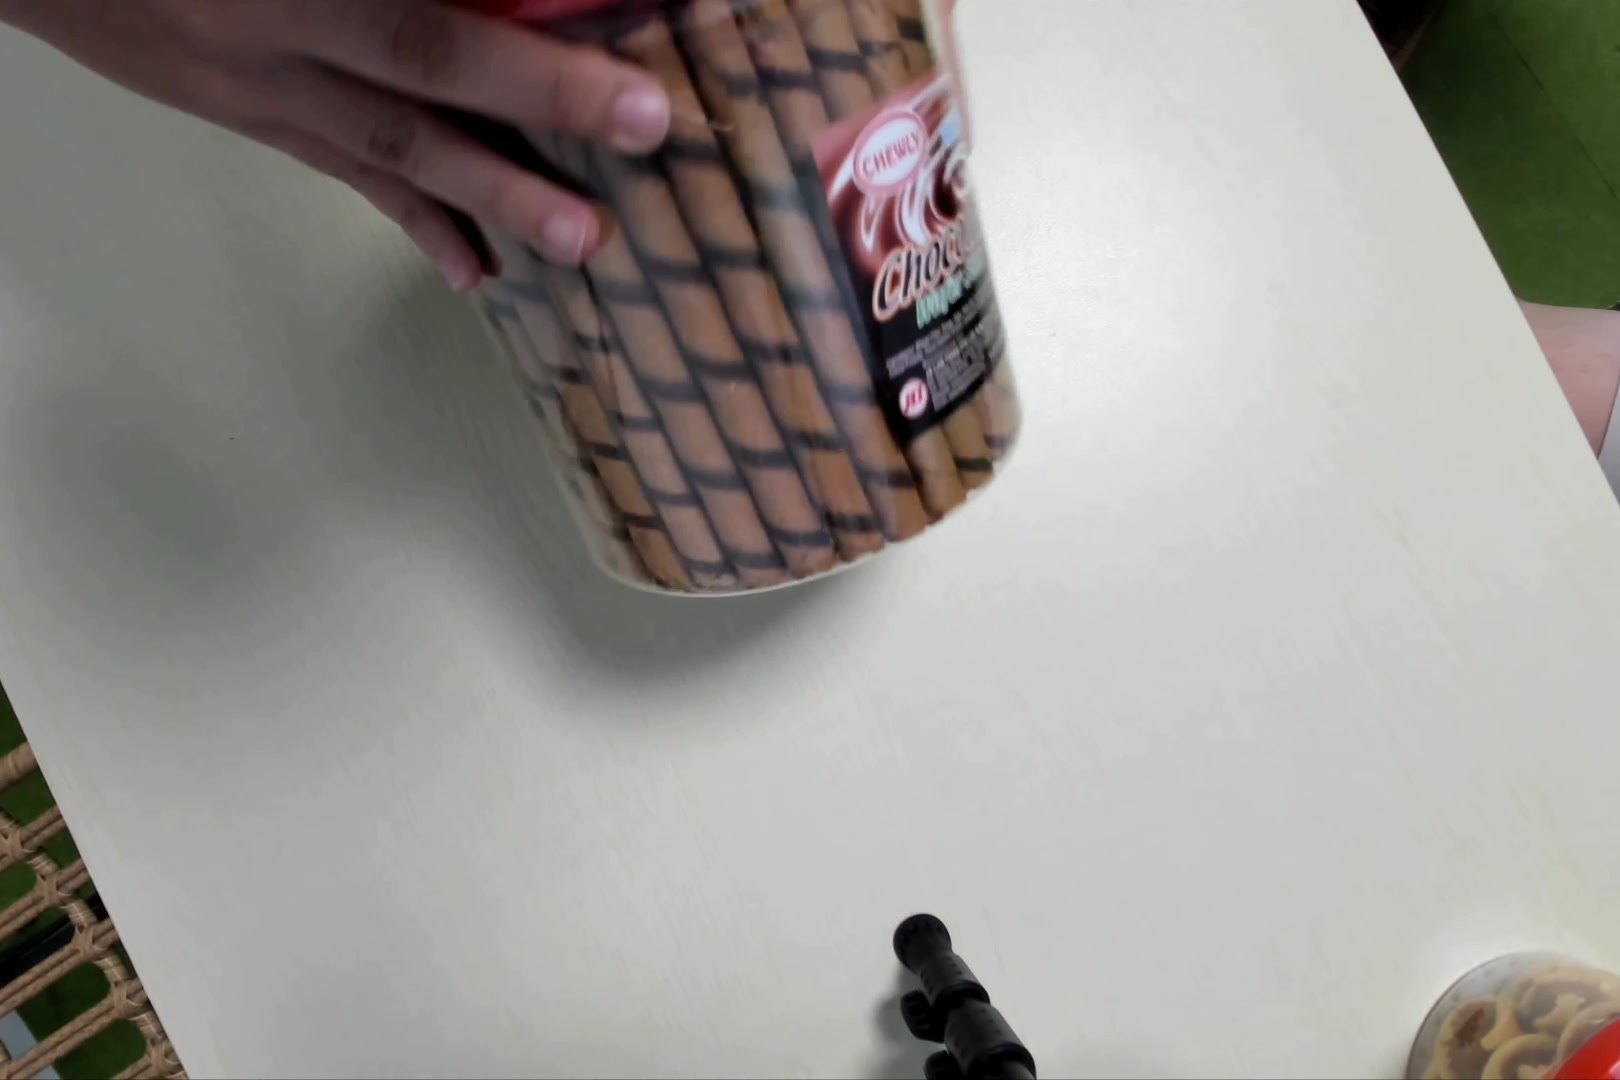BiscuitsCrackersCookies_400-499g_Halal_NonHealthy: (421, 7, 1028, 628)
